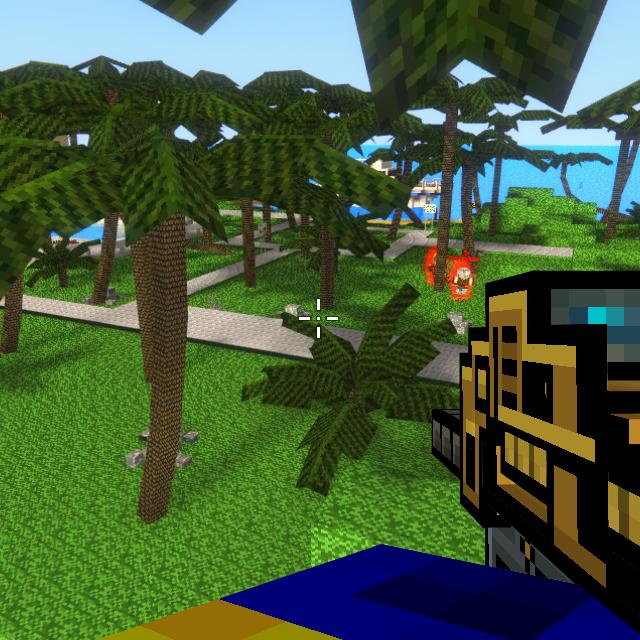Enemy: (452, 268, 472, 301), (427, 254, 436, 278)
